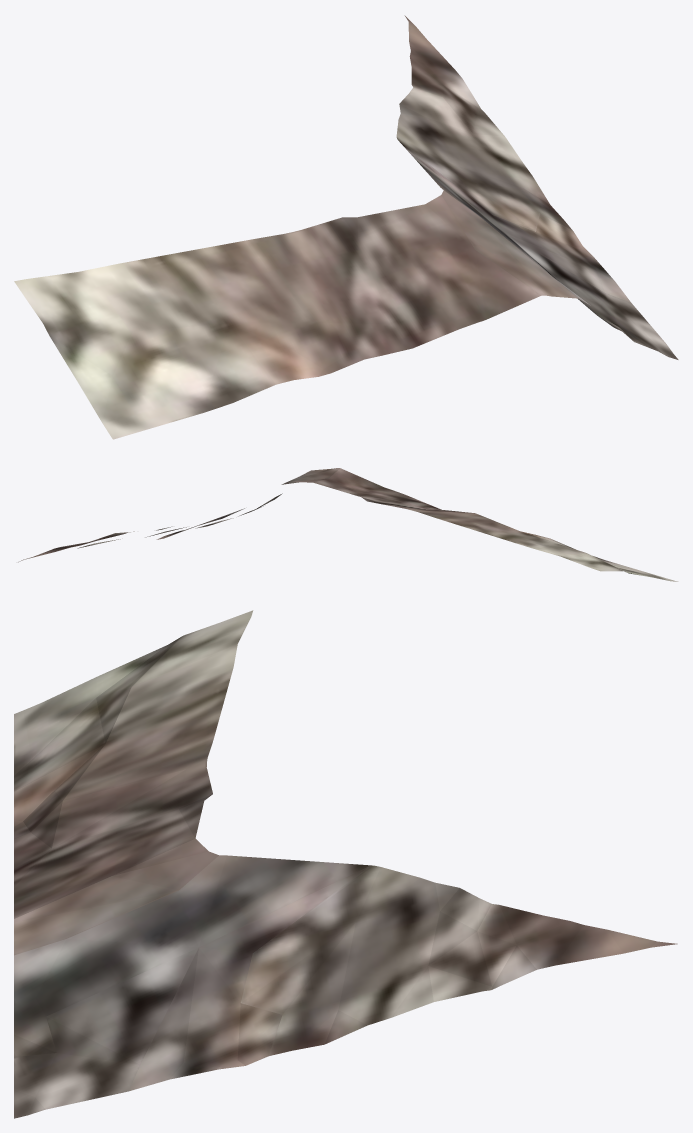
The picture shows the model from 3 angles, top to bottom: view 1: azimuth 30°, elevation 25°; view 2: azimuth 150°, elevation 25°; view 3: azimuth 270°, elevation 25°; orthographic projection. The views are drawn at different scales.
Size of the model in its own units: 1.67 by 0.4089 by 1.41.
1 material, 1 textured.
